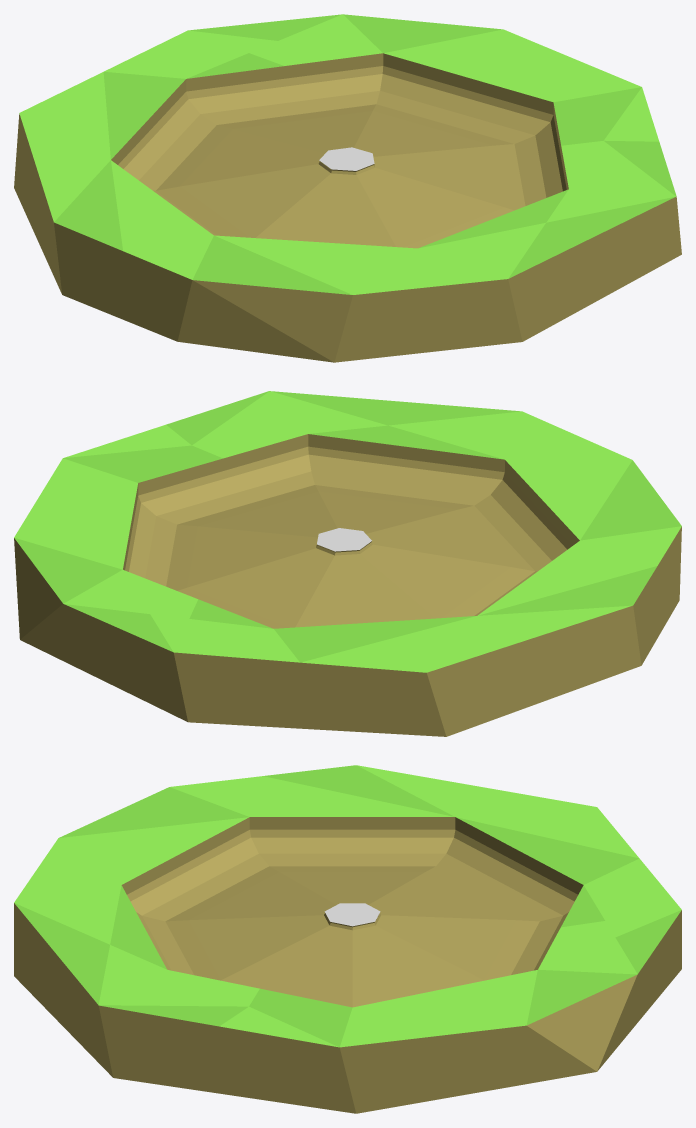
File: PlatformIsland1.fbx
The picture shows the model from 3 angles, top to bottom: view 1: azimuth 30°, elevation 25°; view 2: azimuth 150°, elevation 25°; view 3: azimuth 270°, elevation 25°; orthographic projection.
Parts seen in each view (by area): view 1: PlatformIsland1, PlatformIsland1.001; view 2: PlatformIsland1, PlatformIsland1.001; view 3: PlatformIsland1, PlatformIsland1.001.
Boxes of the visible parts, <box> form: PlatformIsland1: <box>14,14,681,362</box>; PlatformIsland1.001: <box>118,66,566,248</box>; PlatformIsland1: <box>14,391,681,736</box>; PlatformIsland1.001: <box>125,446,572,628</box>; PlatformIsland1: <box>14,765,681,1113</box>; PlatformIsland1.001: <box>127,829,577,1007</box>.
Bounding box in the file's own units: 20.71 × 2.27 × 20.71.
